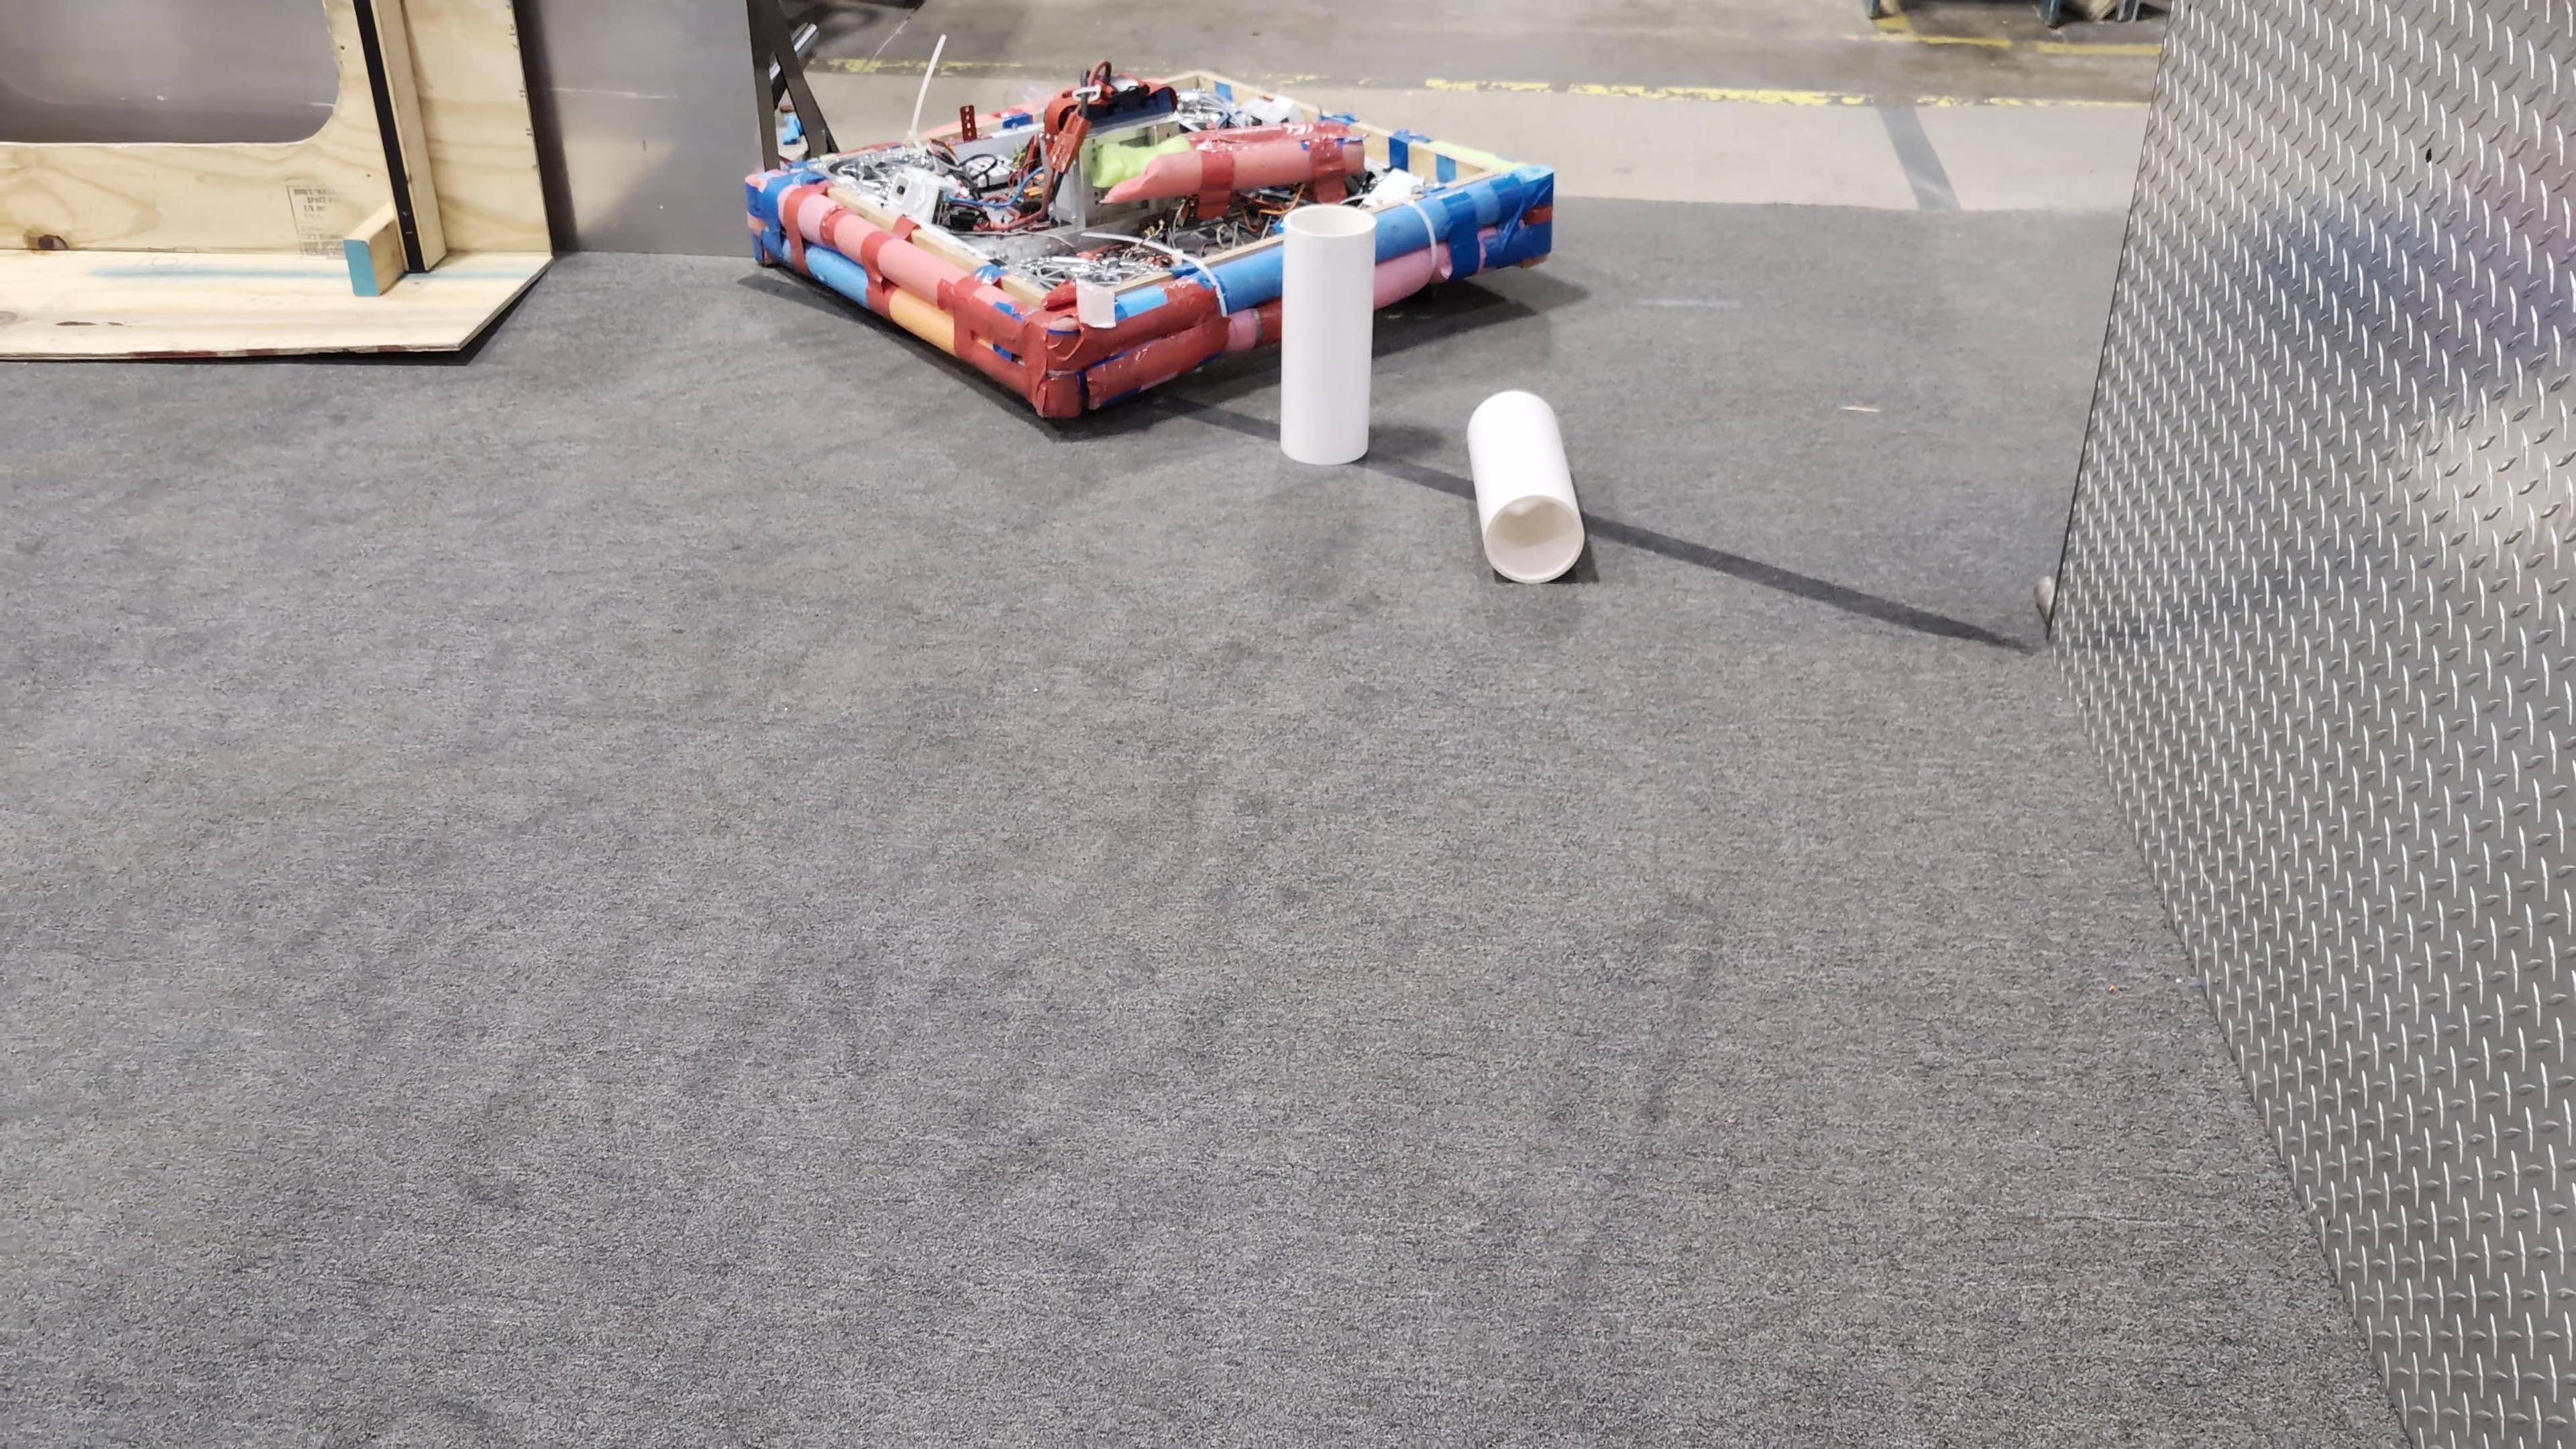coral: (1281, 203, 1378, 465), (1467, 389, 1583, 584)
